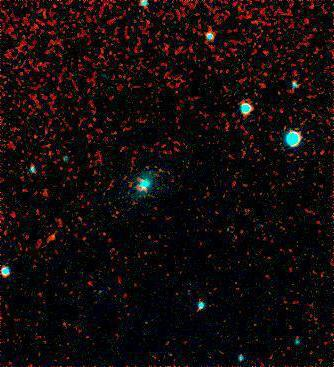star: (37, 223, 67, 253)
